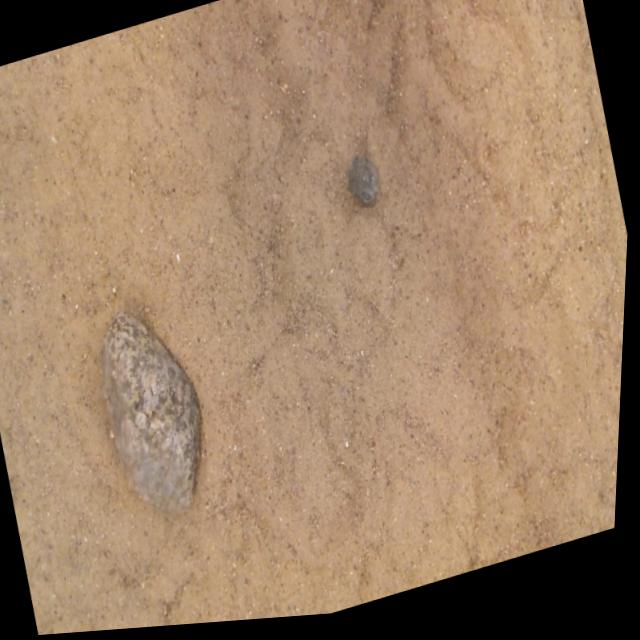rock: (105, 315, 202, 517), (349, 160, 380, 210)
